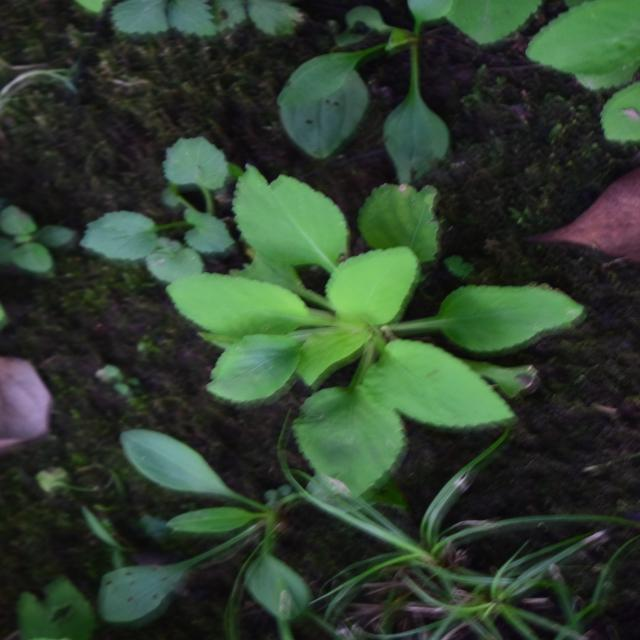Viola: (174, 195, 469, 558)
